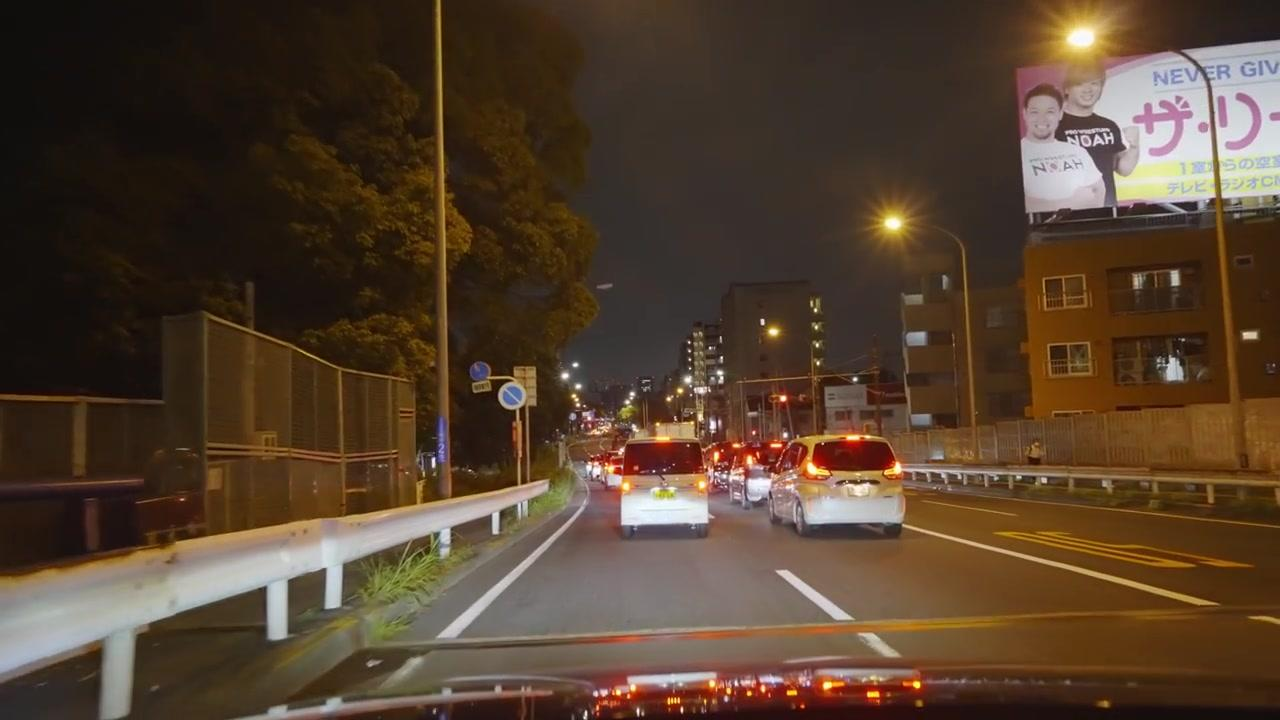bus: (618, 437, 713, 539)
car: (767, 433, 907, 539), (618, 436, 712, 541), (728, 463, 771, 509), (600, 451, 623, 488), (708, 465, 730, 491)
traffic light: (775, 392, 786, 405)
